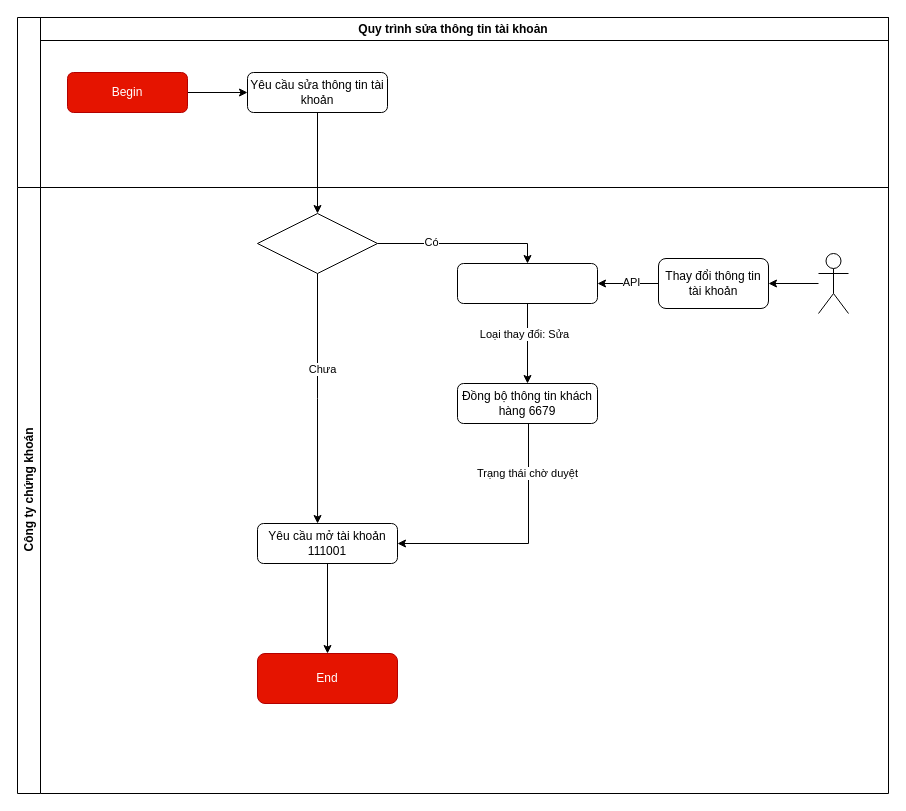
Some shapes in this 906 by 811 pixel diagram are drawn without their labels. The centre of each missing label's shape, as x and y in pixels:
"Bank" goes at (833,283).
"Khách hàng" goes at (452,102).
"Thông tin tài khoản thay đổi DNA" goes at (317,243).
"Đồng bộ thông tin tài khoản 111208" goes at (527,283).
